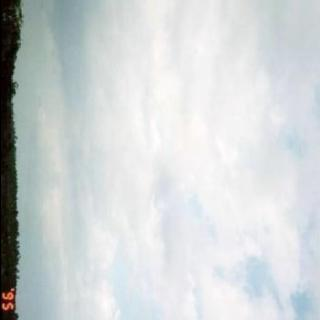Stratocumulus: (28, 0, 320, 320)
